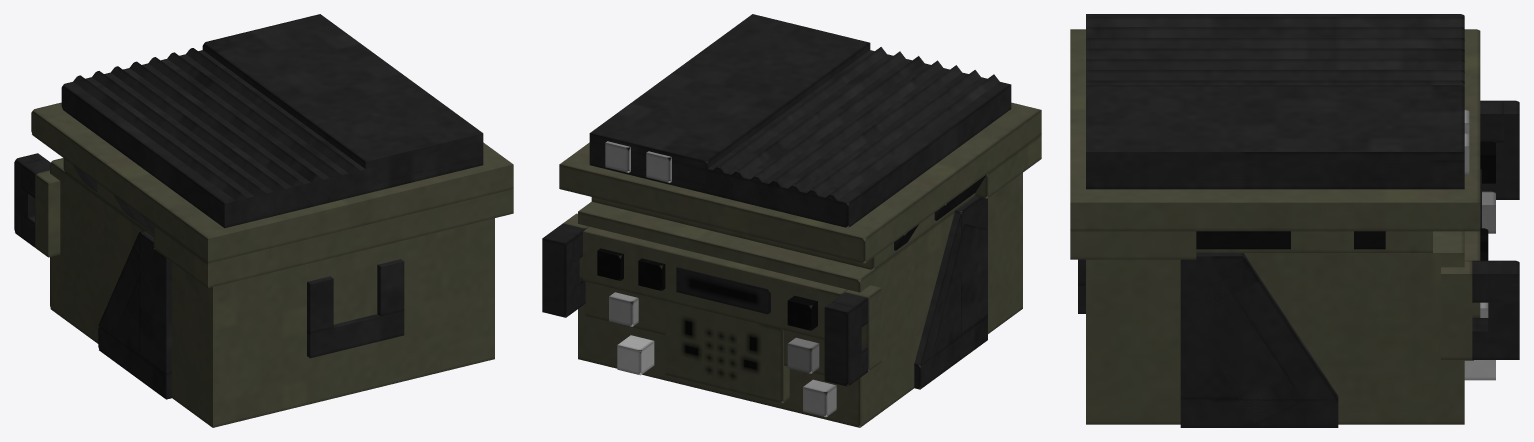
Rendered from military_radio_small_off.obj.
3 renders of one model, left to right at view 1: azimuth 30°, elevation 25°; view 2: azimuth 150°, elevation 25°; view 3: azimuth 270°, elevation 25°, orthographic. The views are drawn at different scales.
Visible parts, largest first — view 1: nx, nB, nA, nz, nO, nK, oa, nH, nE, nI, nD, nG (+11 smaller); view 2: nx, nB, nA, nz, od, oe, oj, oi, nK, oo, nE, ny (+25 smaller); view 3: nx, nB, nz, nA, nW, nV, nU, nX, nF, nH, nD, nI (+18 smaller).
Boxes of the visible parts, x1,y1,x2,y2 form: nx: (50, 158, 494, 427); nB: (202, 14, 483, 185); nA: (61, 50, 483, 228); nz: (31, 102, 513, 263); nO: (153, 189, 513, 287); nK: (139, 230, 171, 374); oa: (307, 311, 404, 358); nH: (167, 52, 350, 201); nE: (129, 61, 313, 210); nI: (148, 57, 330, 206); nD: (92, 71, 273, 219); nG: (186, 48, 366, 196); nx: (578, 173, 1022, 427); nB: (589, 14, 870, 185); nA: (589, 50, 1011, 227); nz: (559, 102, 1041, 263); od: (583, 227, 847, 339); oe: (665, 301, 789, 403); oj: (542, 230, 579, 317); oi: (824, 300, 861, 386); nK: (955, 196, 987, 333); oo: (676, 267, 770, 314); nE: (758, 60, 942, 210); ny: (591, 173, 988, 269); nx: (1086, 231, 1464, 424); nB: (1086, 85, 1464, 180); nz: (1070, 29, 1480, 231); nA: (1086, 14, 1464, 189); nW: (1180, 253, 1243, 399); nV: (1182, 273, 1305, 425); nU: (1231, 278, 1338, 413); nX: (1180, 399, 1338, 427); nF: (1086, 38, 1464, 48); nH: (1086, 70, 1464, 80); nD: (1086, 27, 1464, 37); nI: (1086, 59, 1464, 69).
Size of the model in its own units: 0.8125 by 0.5813 by 0.8906.
1 material, 1 textured.
